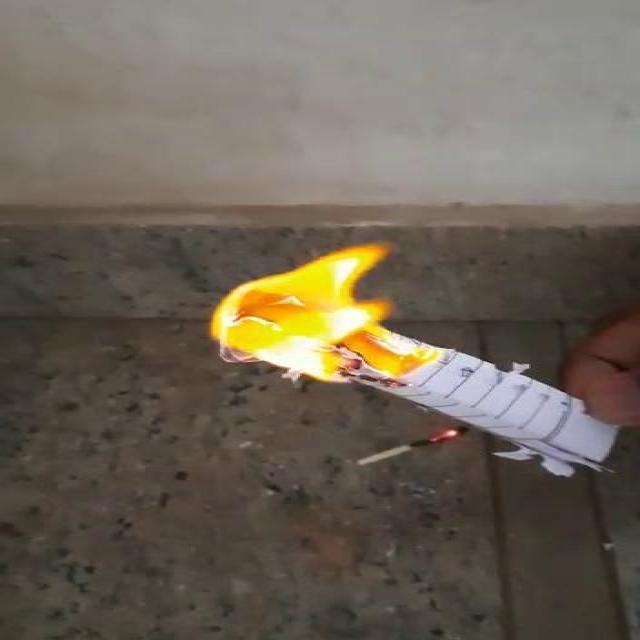Fire: (210, 239, 444, 384)
